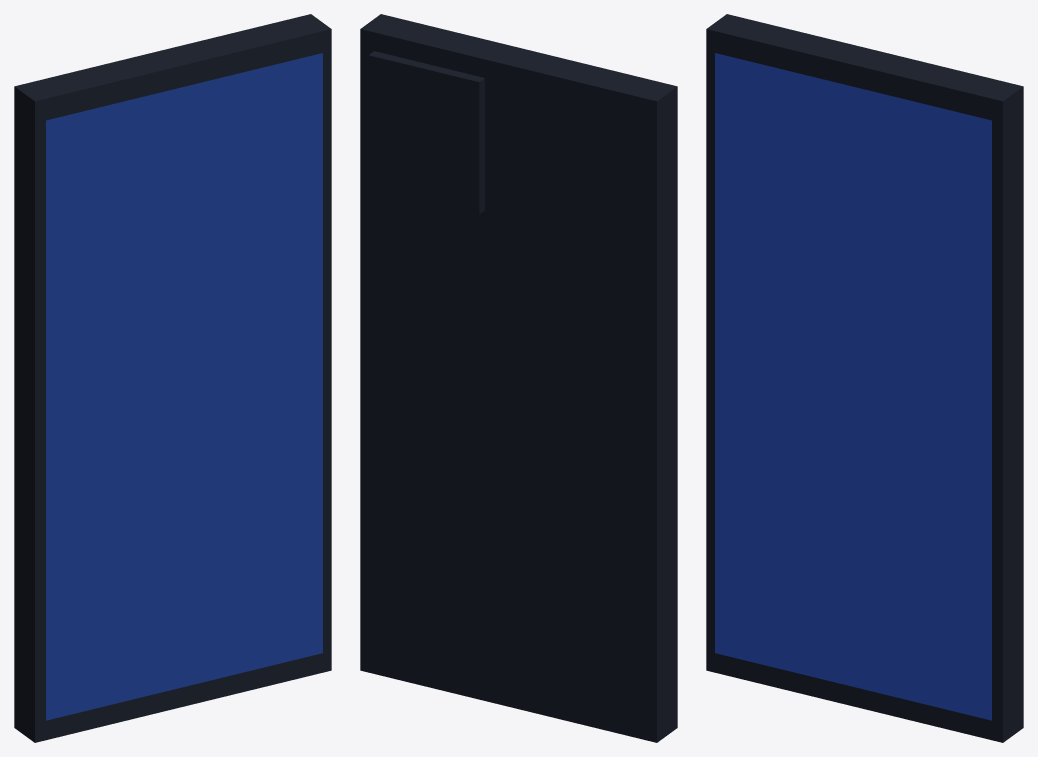
Rendered from prop_smartphone.glb.
3 views of the same model, side by side, from view 1: azimuth 30°, elevation 25°; view 2: azimuth 150°, elevation 25°; view 3: azimuth 330°, elevation 25° (orthographic).
Visible parts, largest first — view 1: Smartphone; view 2: Smartphone; view 3: Smartphone.
Boxes of the visible parts, x1,y1,x2,y2 form: Smartphone: [14, 14, 331, 742]; Smartphone: [360, 14, 677, 742]; Smartphone: [706, 14, 1023, 742].
Bounding box in the file's own units: 0.075 × 0.155 × 0.012.
